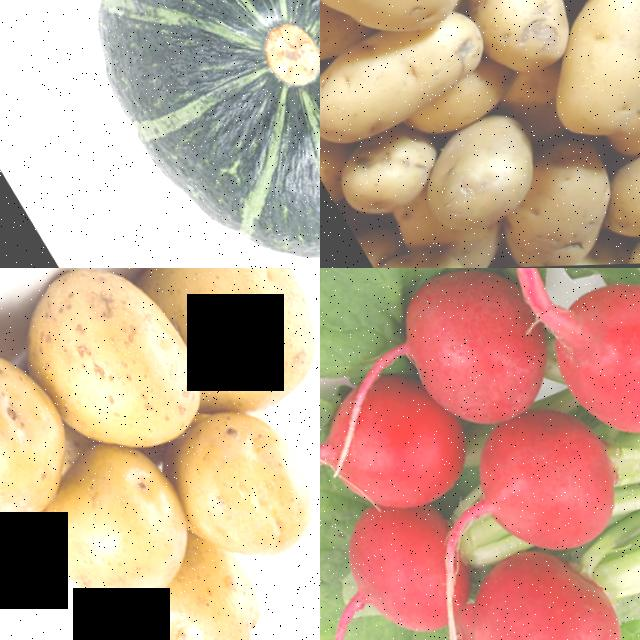potato: (6, 268, 227, 476), (14, 447, 214, 636), (148, 388, 320, 586), (142, 268, 320, 431), (0, 310, 100, 562), (394, 104, 555, 249), (498, 0, 640, 155), (103, 546, 287, 640), (320, 0, 480, 68), (579, 137, 640, 256), (363, 228, 506, 268)
pumpkin: (0, 0, 320, 268)
radishes: (320, 268, 640, 640)
